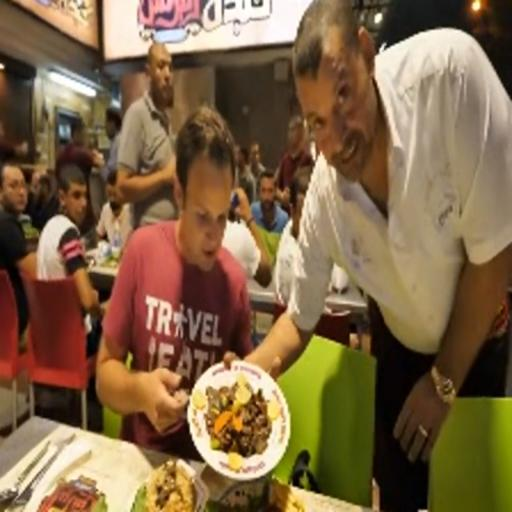nao-violencia: (82, 0, 512, 472)
